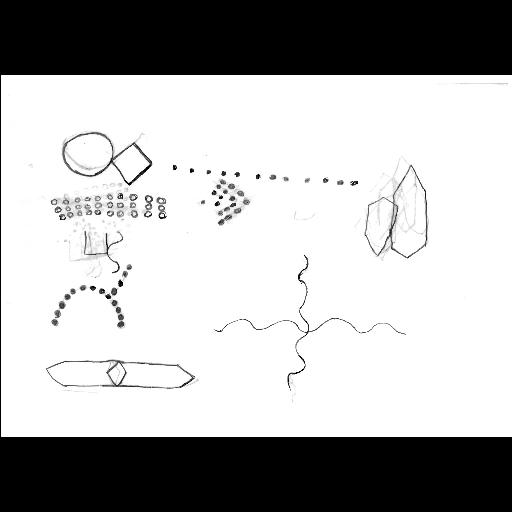shape-1: (61, 129, 153, 187)
shape-2: (169, 158, 357, 186)
shape-3: (50, 190, 166, 220)
shape-4: (200, 178, 250, 226)
shape-5: (82, 228, 124, 276)
shape-6: (50, 263, 132, 329)
shape-7: (215, 254, 405, 390)
shape-8: (364, 165, 430, 259)
shape-9: (44, 359, 196, 389)
